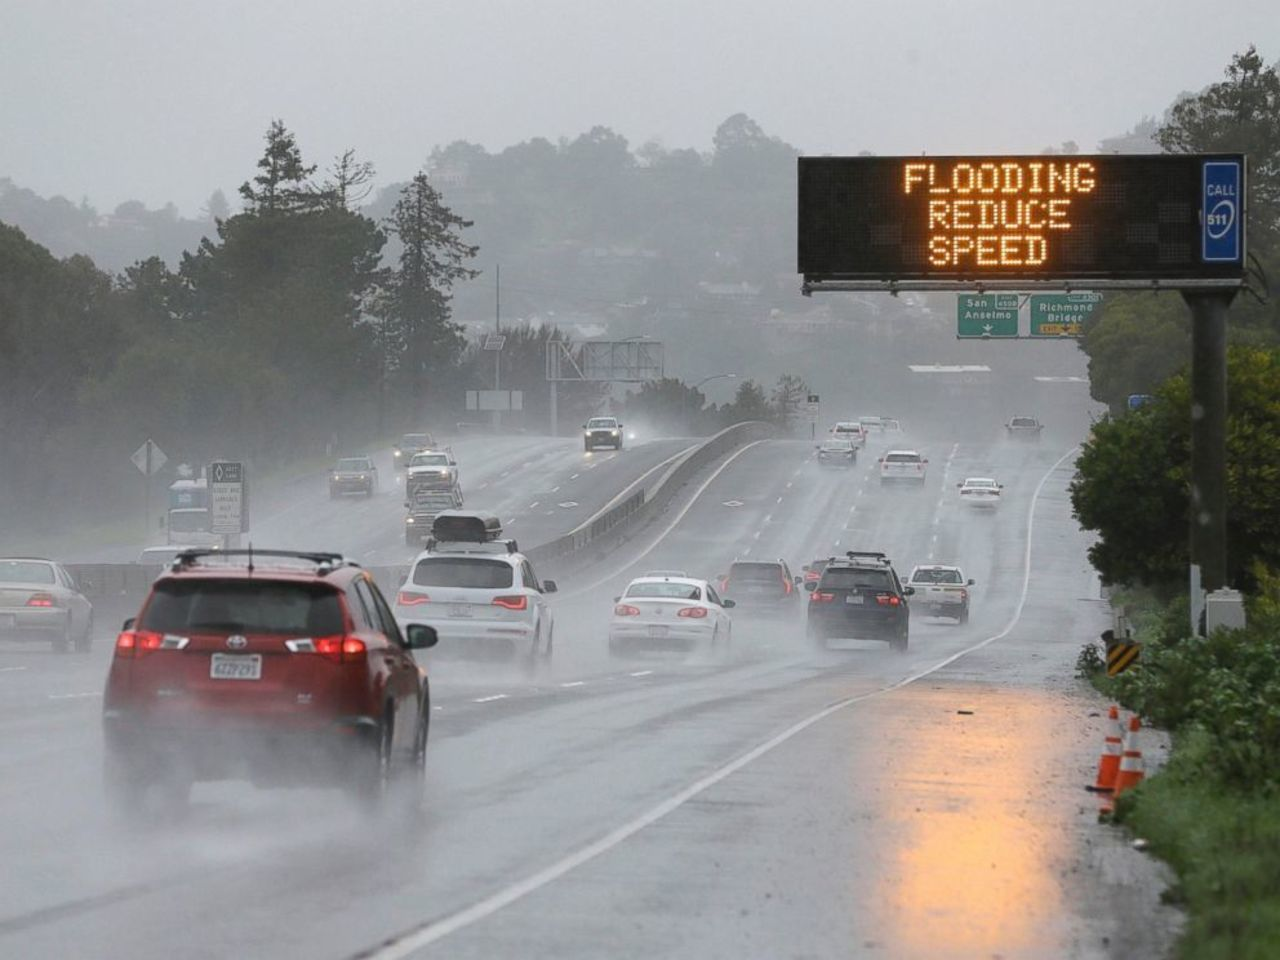car: (101, 558, 439, 837), (392, 548, 556, 659), (807, 556, 912, 652), (609, 577, 728, 657), (0, 557, 95, 651), (718, 560, 799, 624), (907, 564, 973, 624), (326, 456, 375, 500), (401, 493, 455, 532), (877, 449, 928, 484), (577, 413, 624, 451), (956, 475, 1005, 511), (408, 453, 455, 489), (388, 434, 436, 463), (1001, 415, 1045, 443), (814, 440, 858, 466), (828, 421, 867, 446)
truck: (160, 486, 240, 552)
